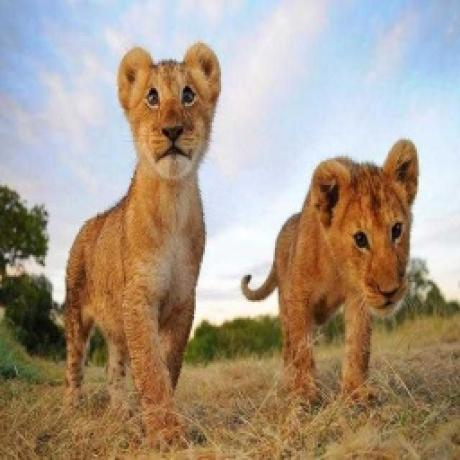Lion: (62, 38, 224, 415), (240, 136, 422, 398)
